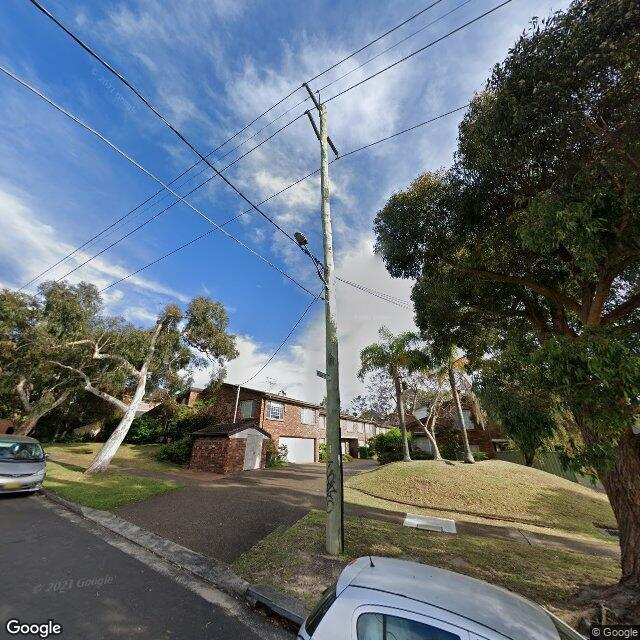HV-transmission: (304, 82, 338, 158)
streetlight: (294, 231, 328, 288)
timber-pole: (320, 103, 343, 556)
